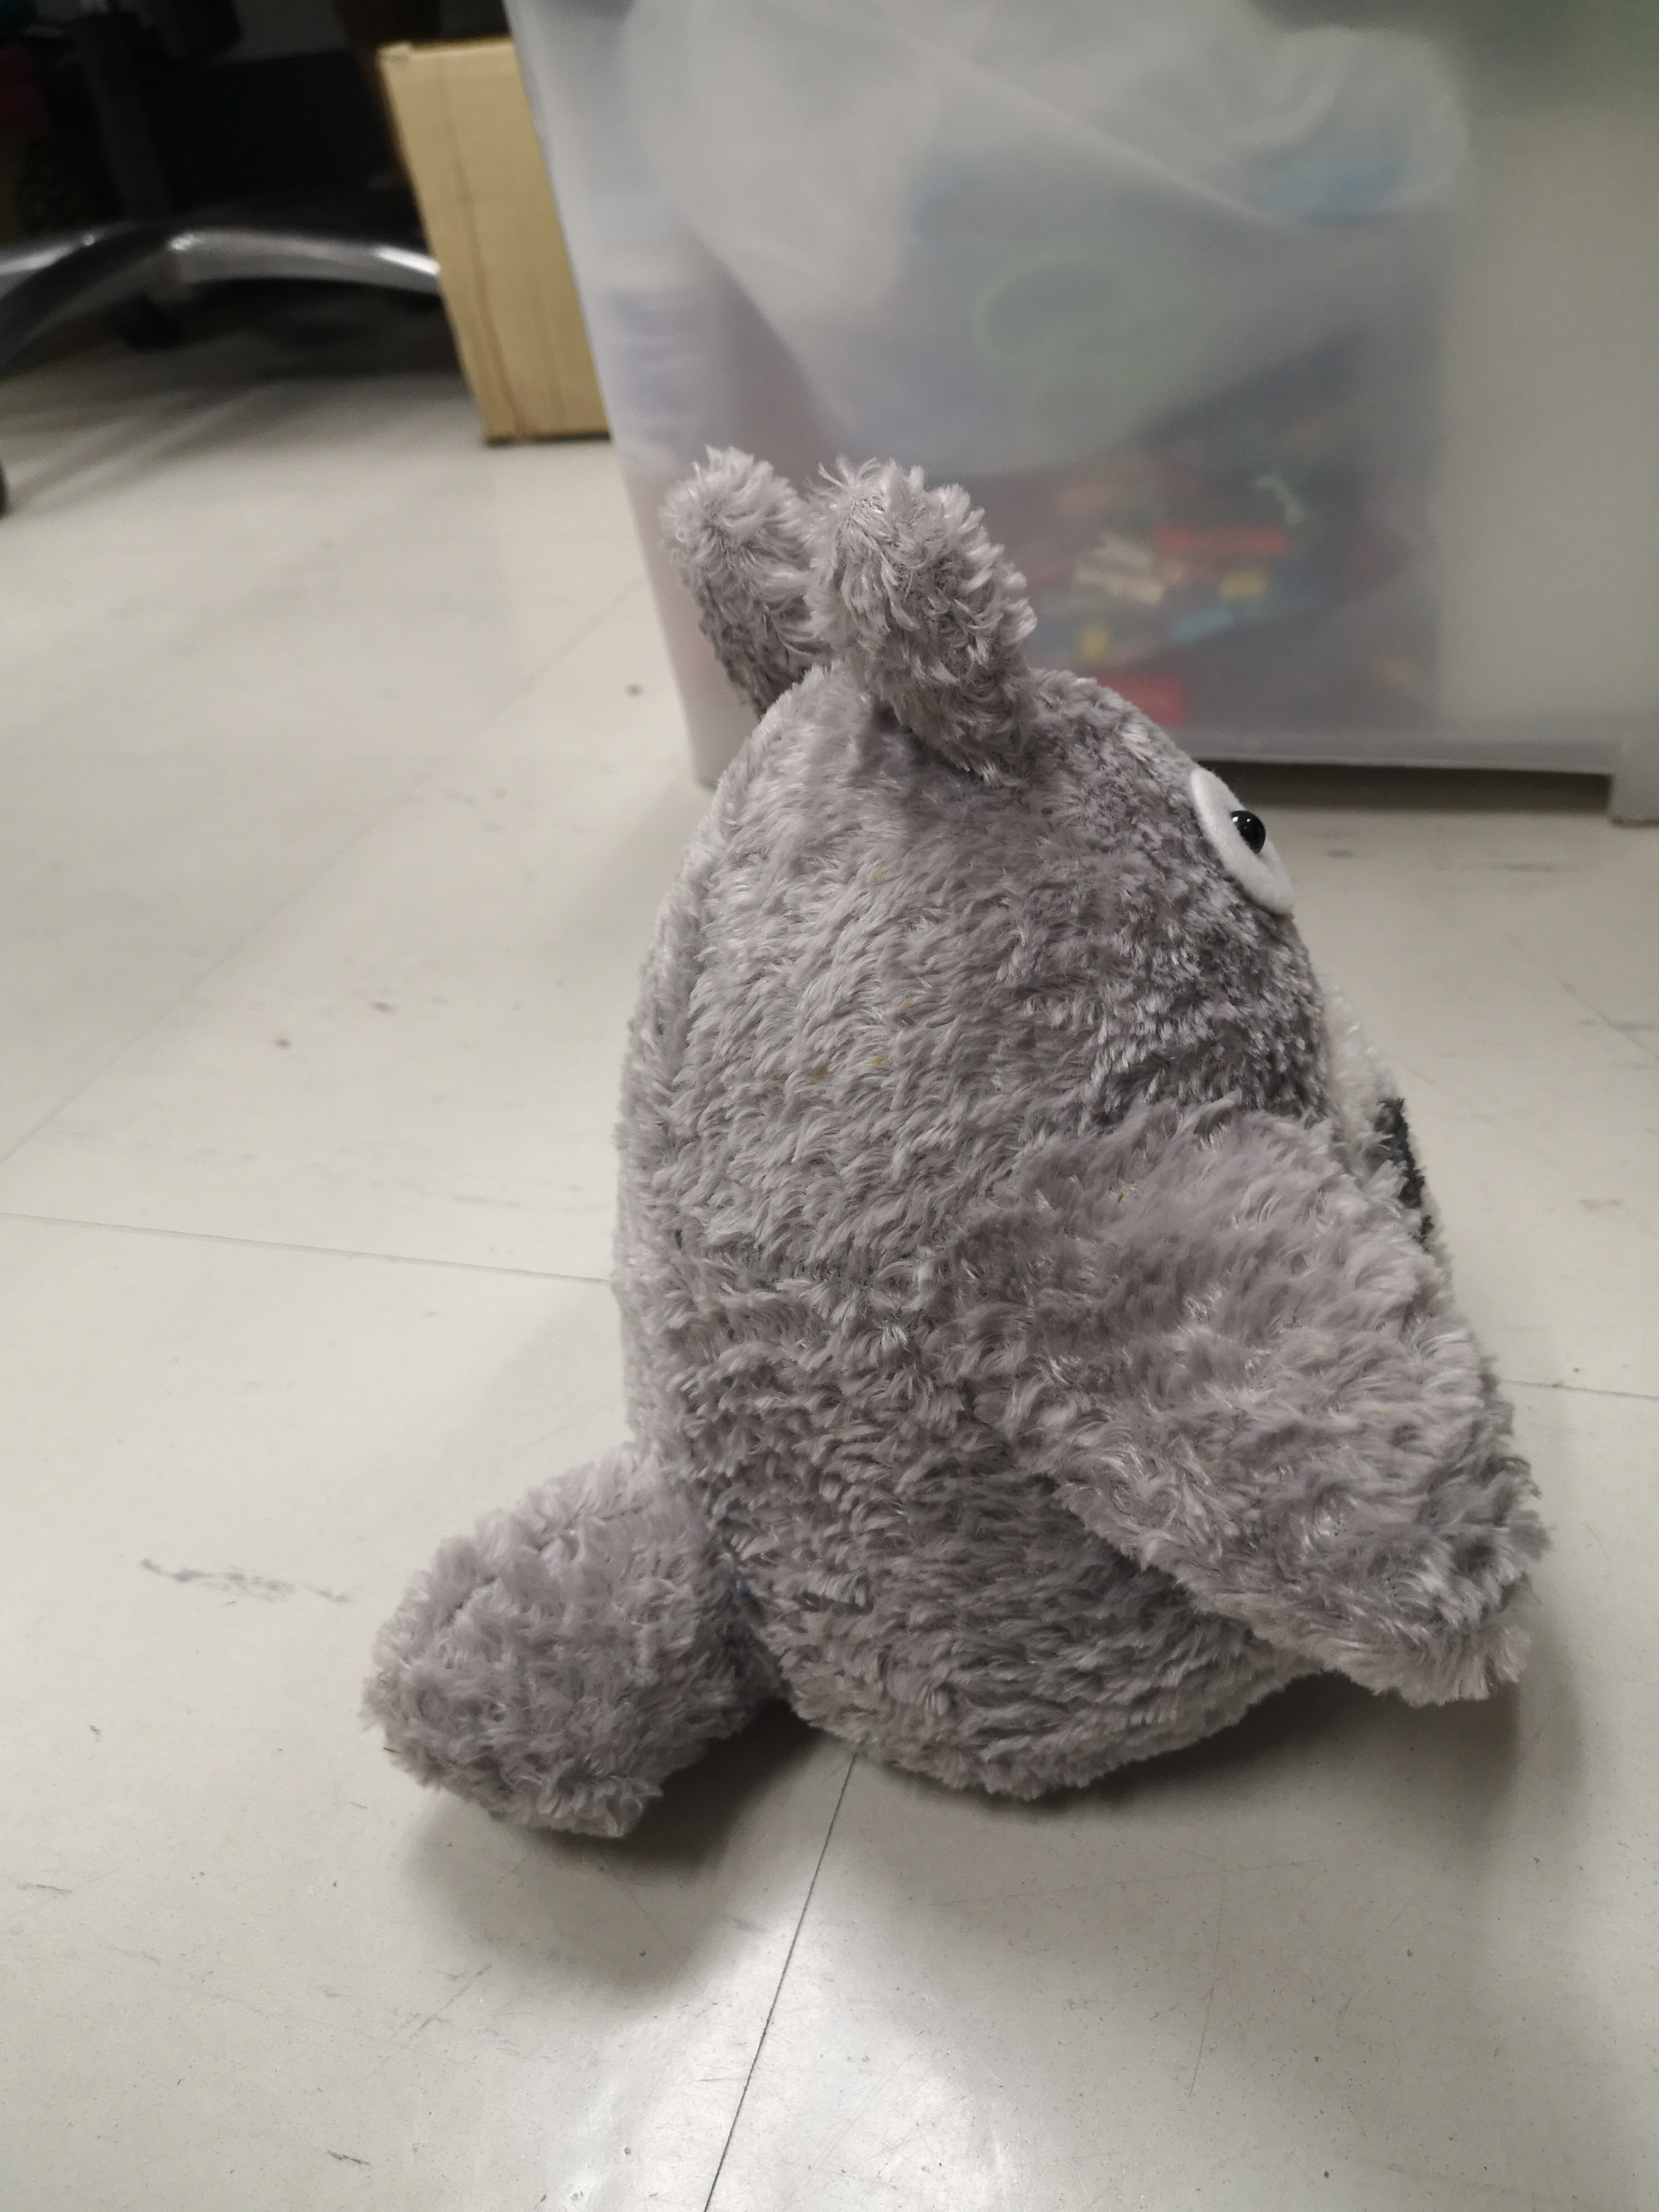totoro: (336, 413, 1556, 1872)
